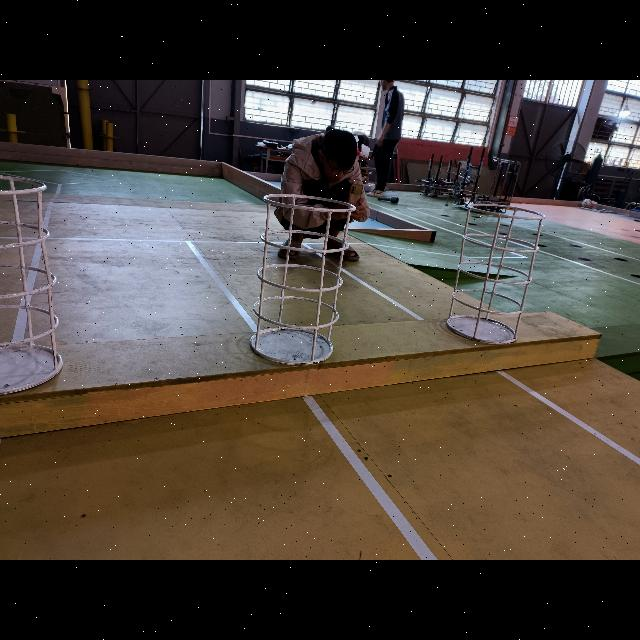S: (252, 190, 360, 369), (443, 201, 549, 346), (0, 172, 66, 392)
